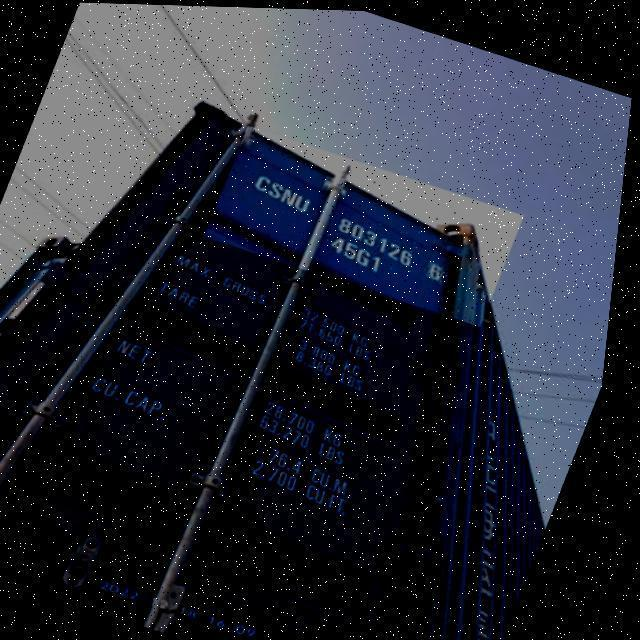container_number_h: (202, 123, 534, 324)
